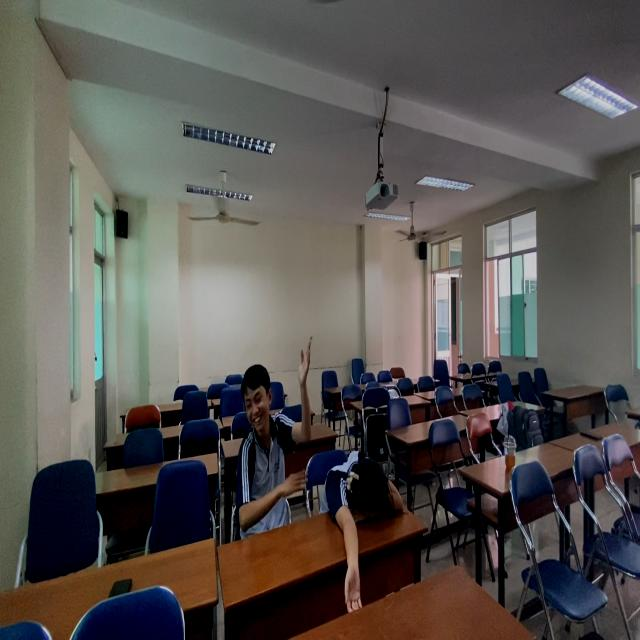raise_hand: (227, 335, 317, 550)
sleep: (320, 443, 411, 543)
